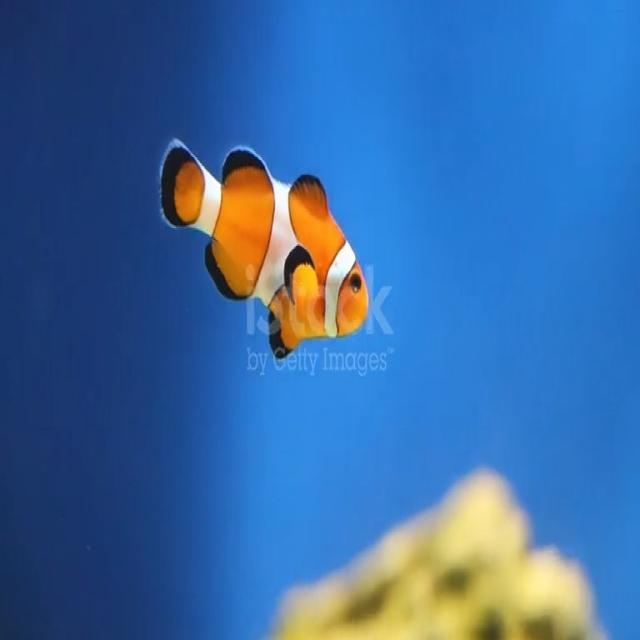fish: (157, 130, 370, 362)
